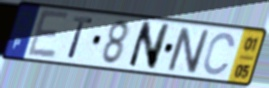8: (101, 18, 132, 67)
C: (201, 31, 237, 77)
E: (25, 8, 71, 60)
N: (125, 20, 172, 72), (165, 25, 211, 76)
T: (66, 15, 95, 61)
